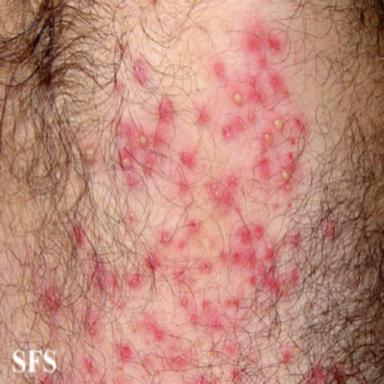Impetigo: (71, 19, 310, 384), (305, 364, 346, 384), (42, 287, 61, 313), (133, 59, 149, 87), (322, 218, 337, 240), (83, 144, 96, 164), (73, 225, 85, 245), (281, 347, 293, 363), (115, 78, 125, 94), (126, 210, 135, 224)
